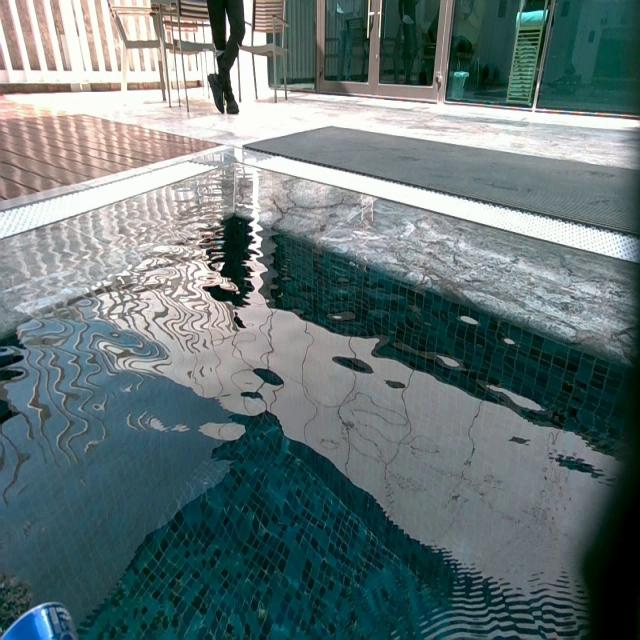Cans: (2, 603, 82, 640)
